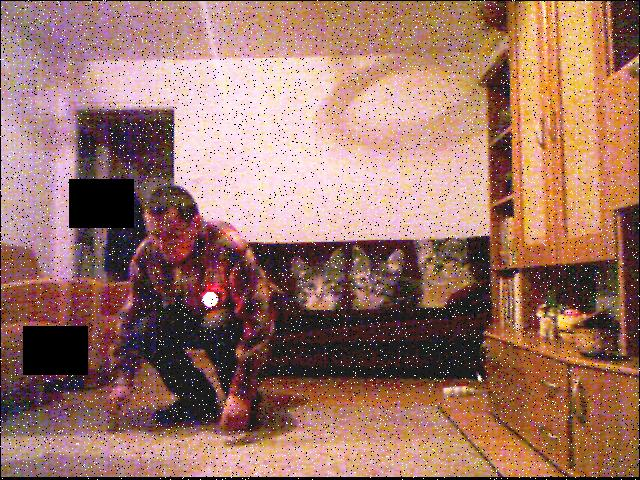sitting: (96, 166, 294, 455)
